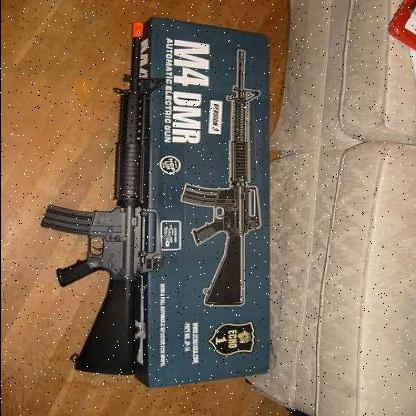rifle: (35, 17, 175, 391)
